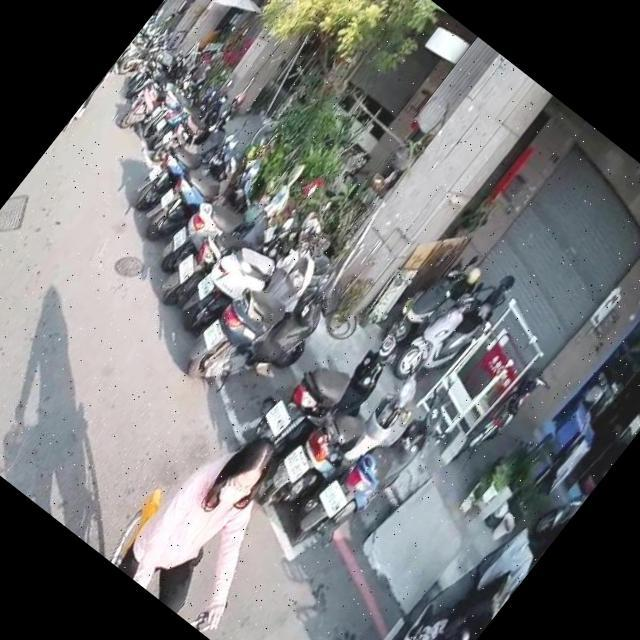person: (112, 405, 334, 640)
